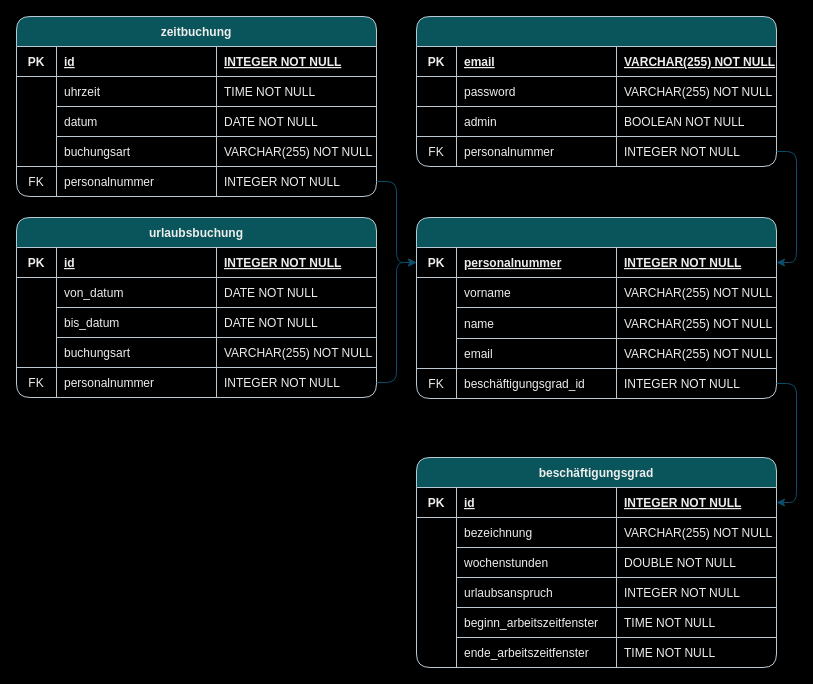
The diagram is 813 pixels wide and 684 high, and some of its shapes have lost their labels. The box of each missing label's shape, as (x1, y1, x2, y2) in pixels:
login: (416, 16, 776, 166)
mitarbeiter: (416, 216, 776, 398)
